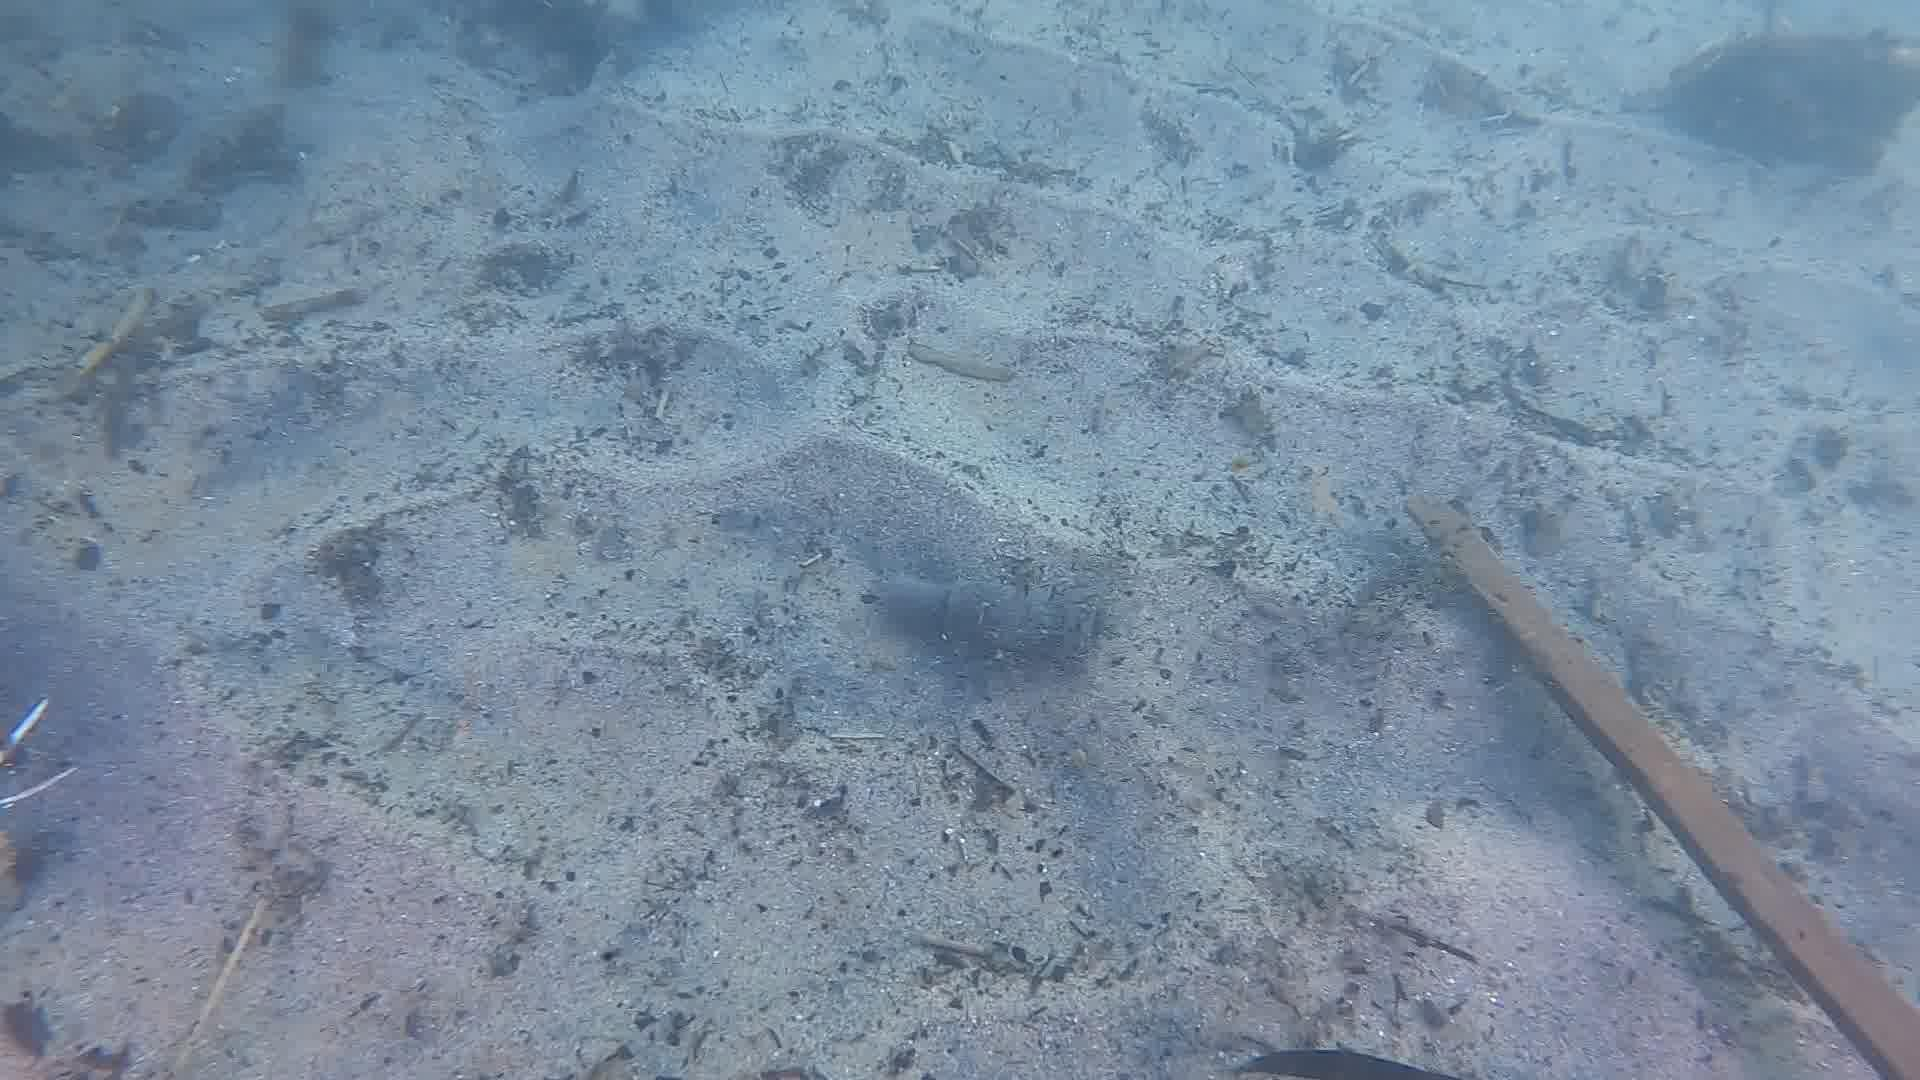wood: (1396, 485, 1920, 1080)
